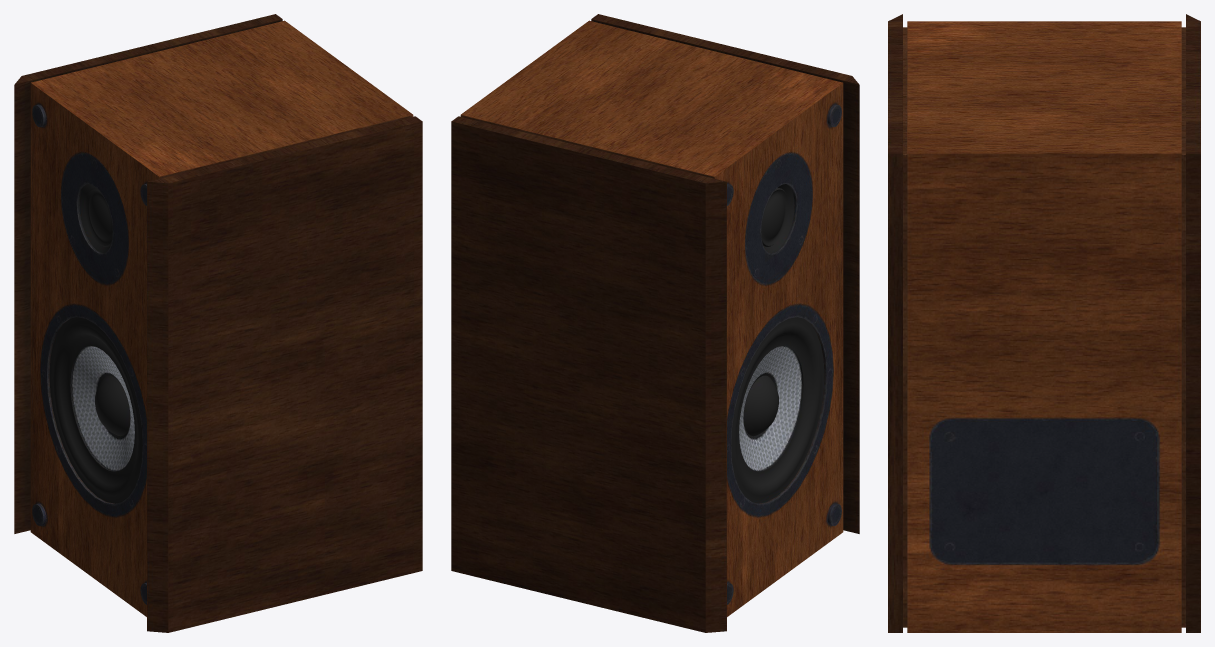
File: speaker.gltf
3 views of the same model, side by side, from view 1: azimuth 30°, elevation 25°; view 2: azimuth 150°, elevation 25°; view 3: azimuth 270°, elevation 25° (orthographic). The views are drawn at different scales.
Parts seen in each view (by area): view 1: low; view 2: low; view 3: low.
Boxes of the visible parts, x1,y1,x2,y2 form: low: (14,14,422,632); low: (451,14,859,632); low: (888,14,1200,632).
Bounding box in the file's own units: 1.56 × 2.49 × 1.47.
Materials: 1 (1 with a texture image).
